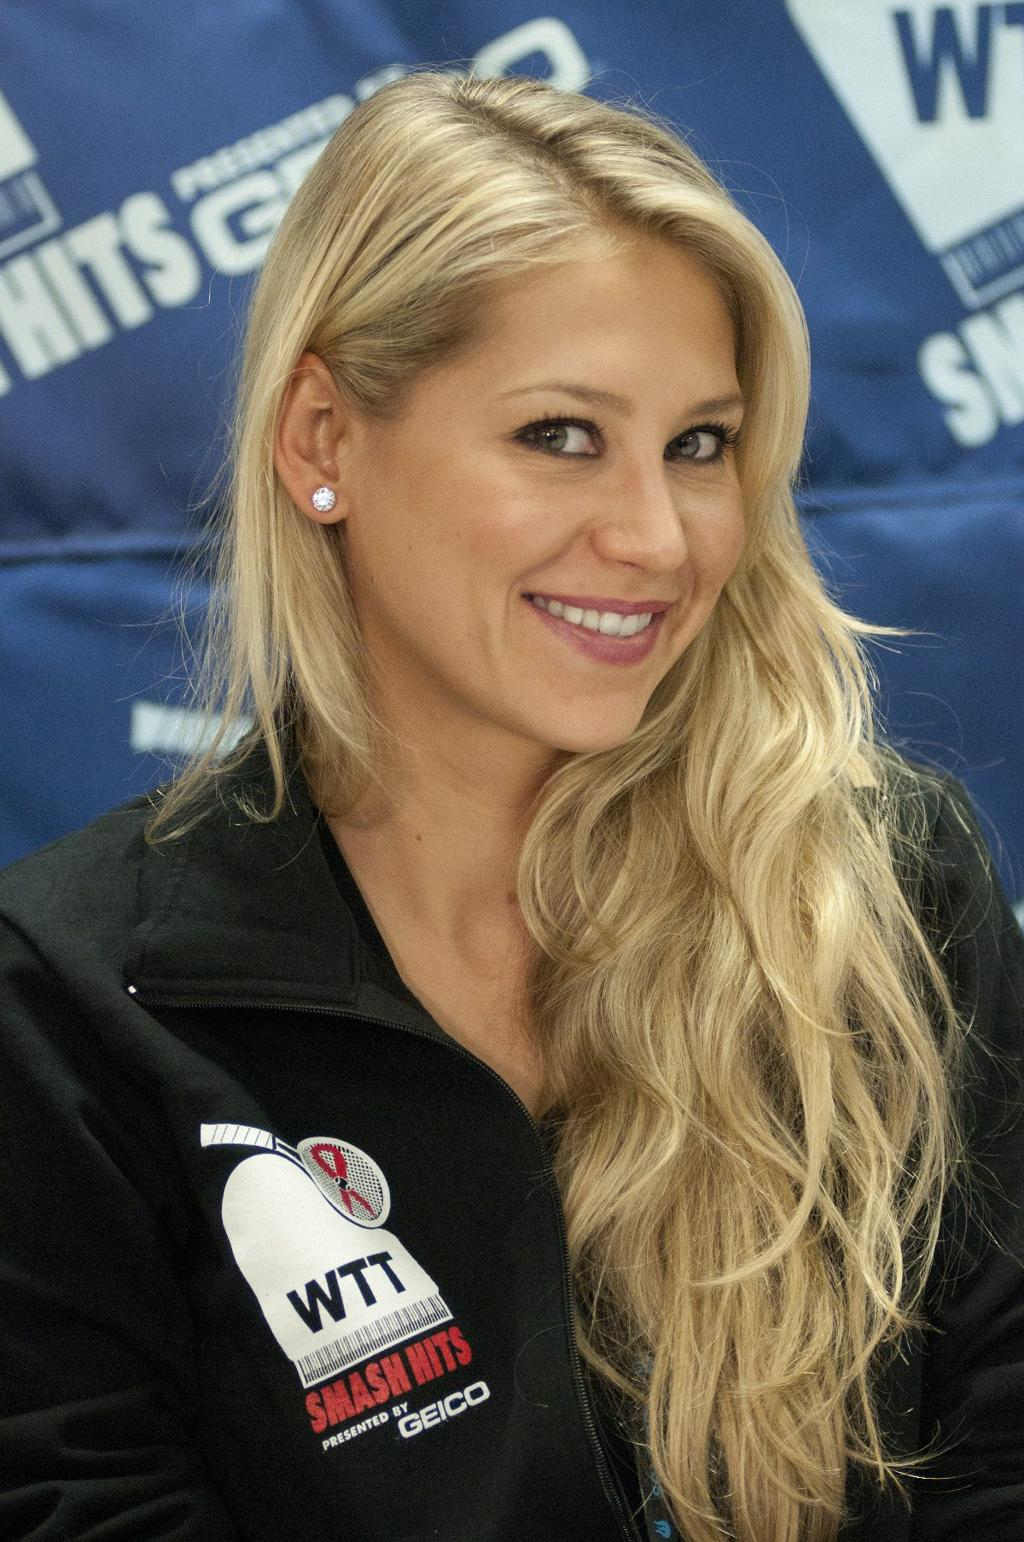face: (358, 235, 747, 753)
